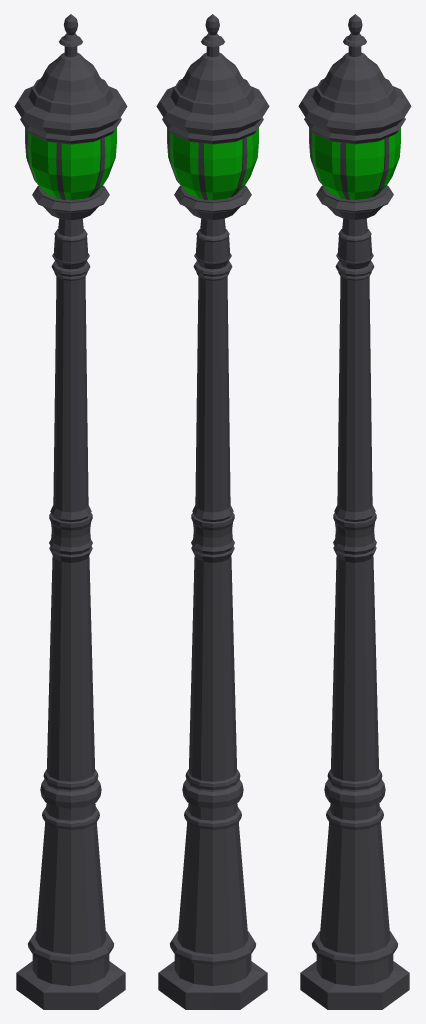
File: SM_Lamp.fbx
3 renders of one model, left to right at view 1: azimuth 90°, elevation 25°; view 2: azimuth 150°, elevation 25°; view 3: azimuth 330°, elevation 25°, orthographic.
Parts seen in each view (by area): view 1: lamp post; view 2: lamp post; view 3: lamp post.
Part boxes in pixels (left/top/right/bottom): lamp post: left=14, top=14, right=127, bottom=1009; lamp post: left=156, top=14, right=269, bottom=1009; lamp post: left=298, top=14, right=411, bottom=1009.
Size of the model in its own units: 207 by 1972 by 207.
